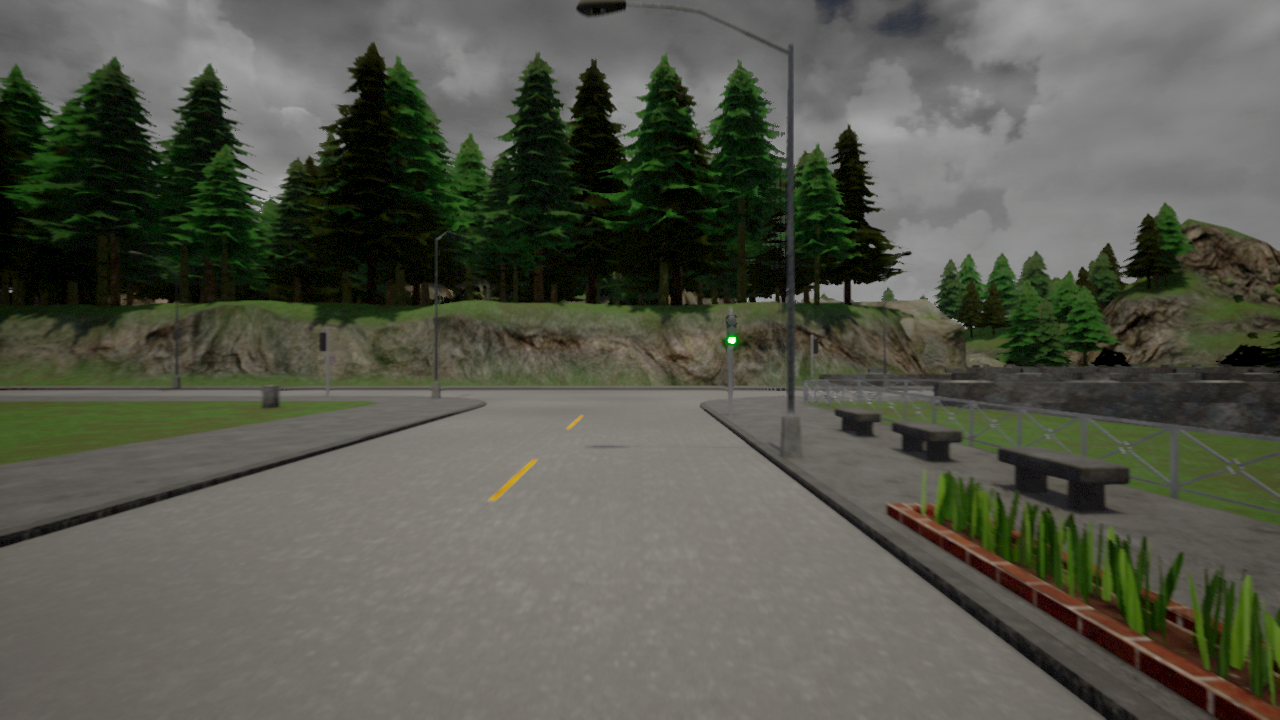green: (725, 314, 740, 345)
